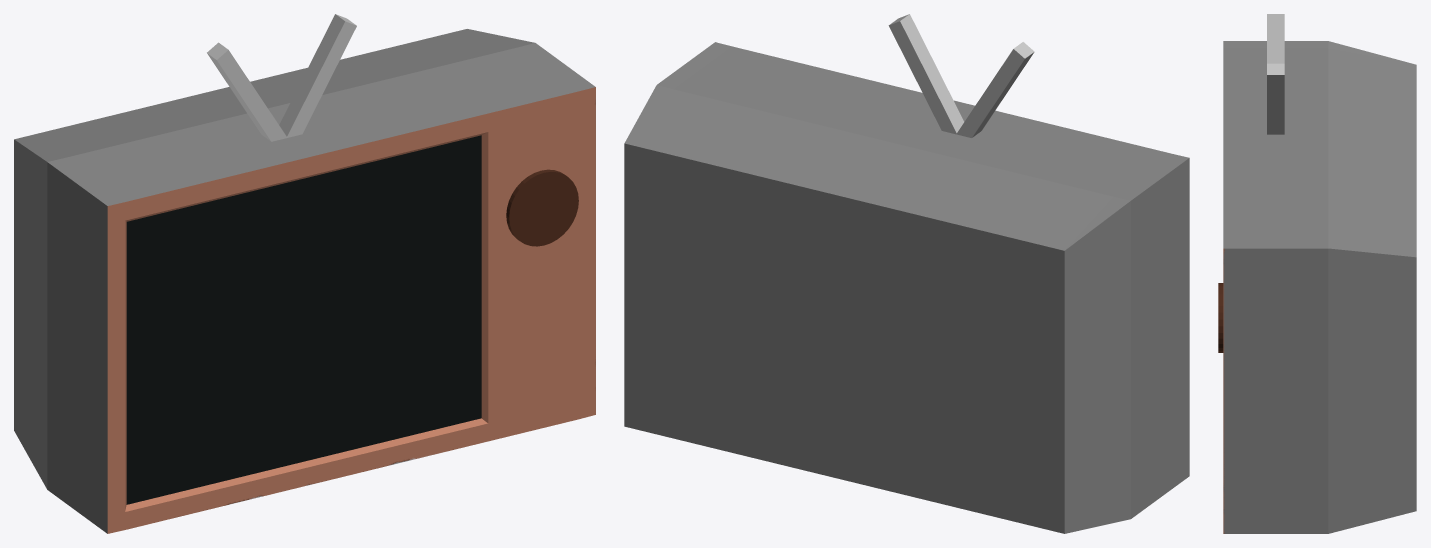
File: SM_TD2_TV_Antenna.fbx
3 renders of one model, left to right at view 1: azimuth 30°, elevation 25°; view 2: azimuth 150°, elevation 25°; view 3: azimuth 270°, elevation 25°, orthographic. The views are drawn at different scales.
Parts seen in each view (by area): view 1: SM_TD2_TV_Antenna__Body, SM_TD2_TV_Antenna__Screen; view 2: SM_TD2_TV_Antenna__Body; view 3: SM_TD2_TV_Antenna__Body.
Part boxes in pixels (bbox=[...]): SM_TD2_TV_Antenna__Body: bbox=[14, 14, 595, 533]; SM_TD2_TV_Antenna__Screen: bbox=[126, 135, 481, 504]; SM_TD2_TV_Antenna__Body: bbox=[624, 14, 1189, 533]; SM_TD2_TV_Antenna__Body: bbox=[1218, 14, 1416, 533].
Bounding box in the file's own units: 1.4 × 1.18 × 0.5672.
Materials: 2 (1 with a texture image).
